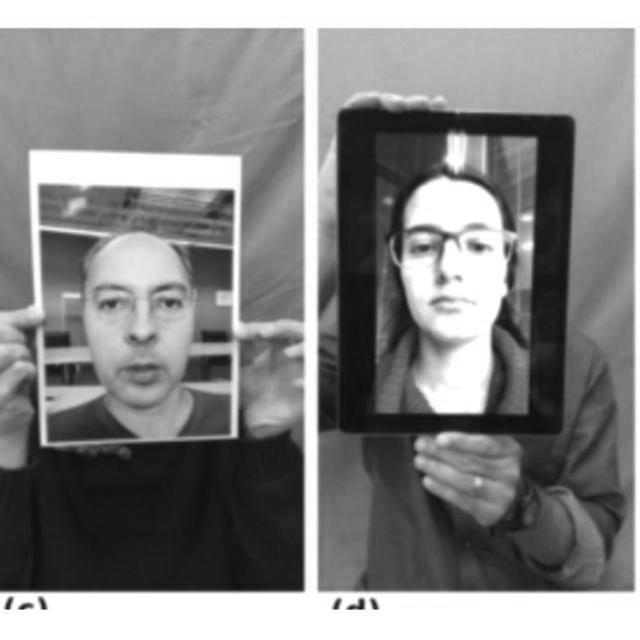fake: (329, 98, 571, 441), (23, 144, 254, 456)
